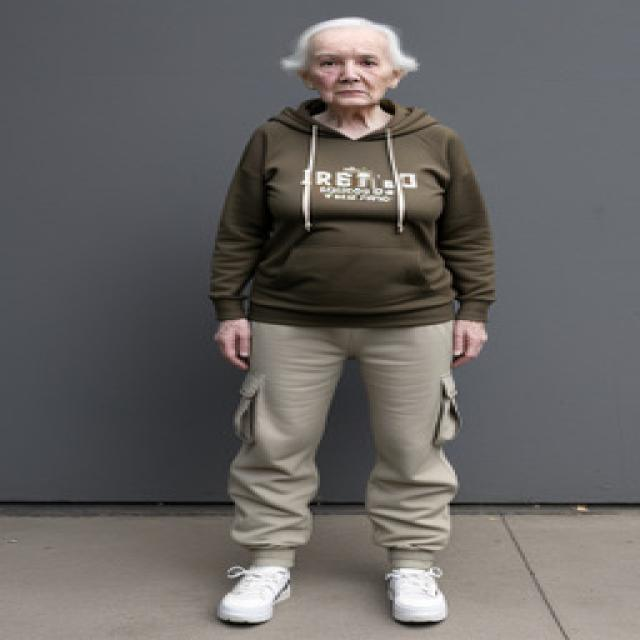Ai human 2: (194, 15, 516, 637)
